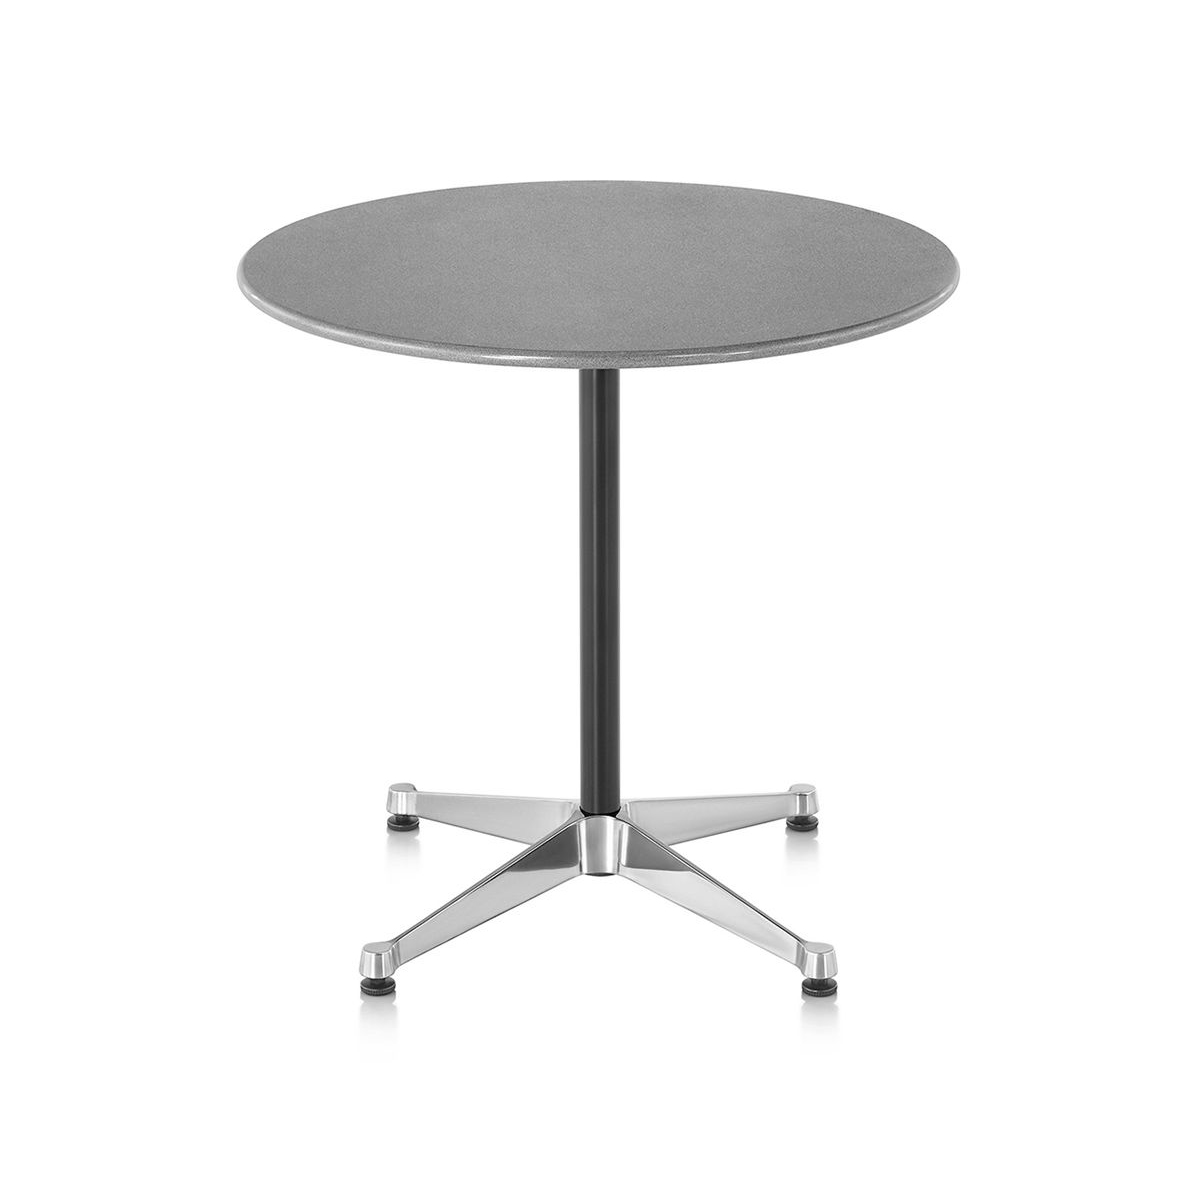meja: (223, 178, 968, 1009)
